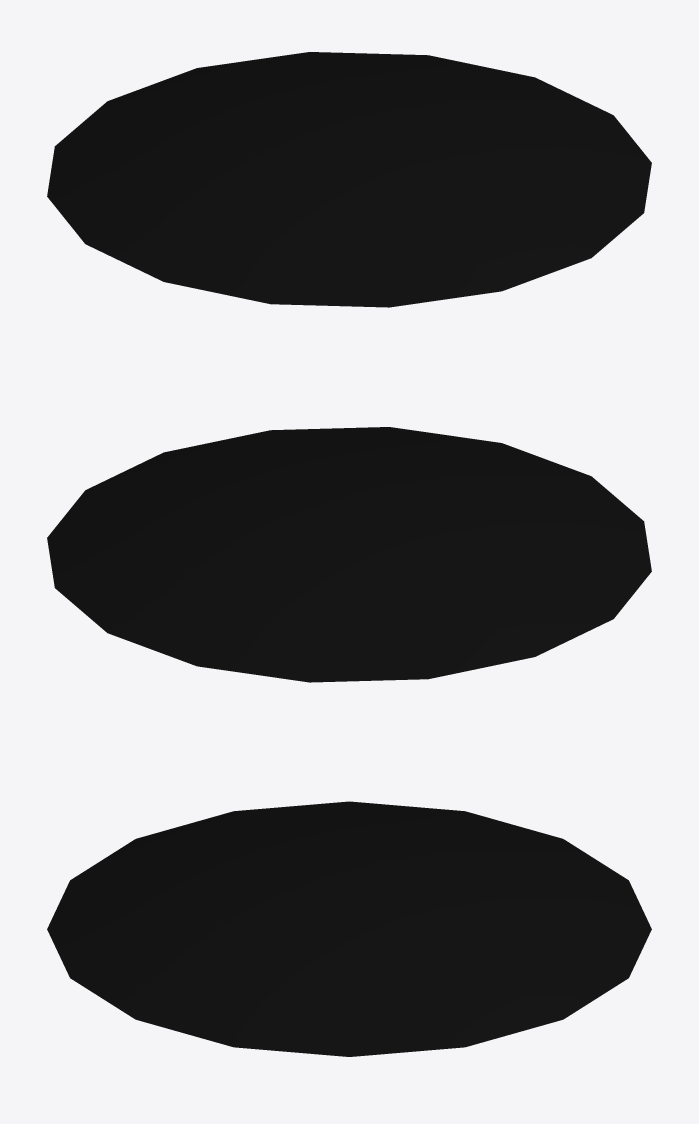
Rendered from GanYingQi_Mini_on.FBX.
3 views of the same model, one above another, from view 1: azimuth 30°, elevation 25°; view 2: azimuth 150°, elevation 25°; view 3: azimuth 270°, elevation 25° (orthographic).
Visible parts, largest first — view 1: Box001; view 2: Box001; view 3: Box001.
Part boxes in pixels (x1,y1,x2,y2): Box001: (47, 52, 651, 307); Box001: (47, 427, 651, 682); Box001: (47, 801, 651, 1056).
Size of the model in its own units: 0.5 by 0.0907 by 0.5.
